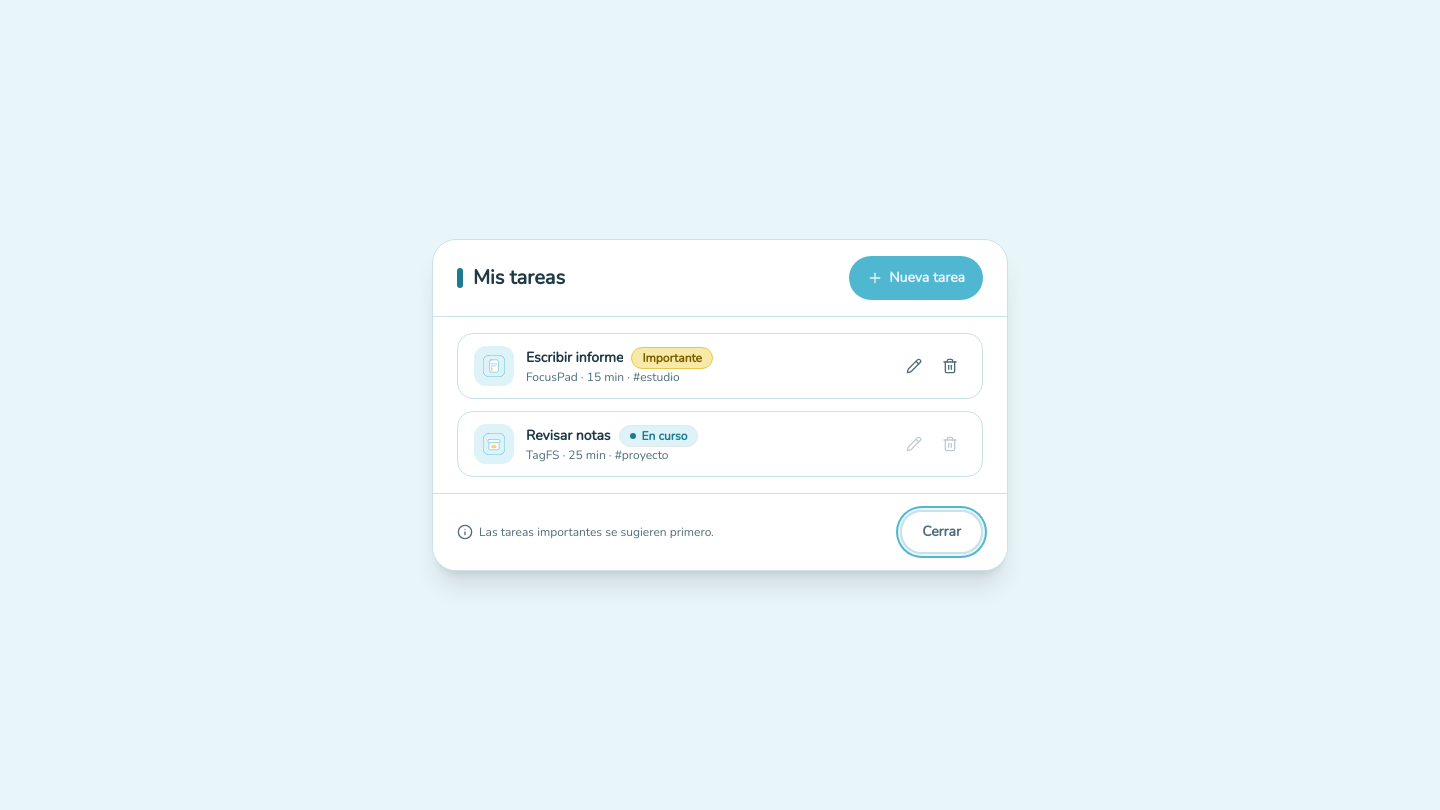
Test: DialogoMisTareas › elimina una tarea tras confirmar en el diálogo
Click the button named "Eliminar Escribir informe" at point(950, 366), box left=934, top=350, right=966, bottom=382
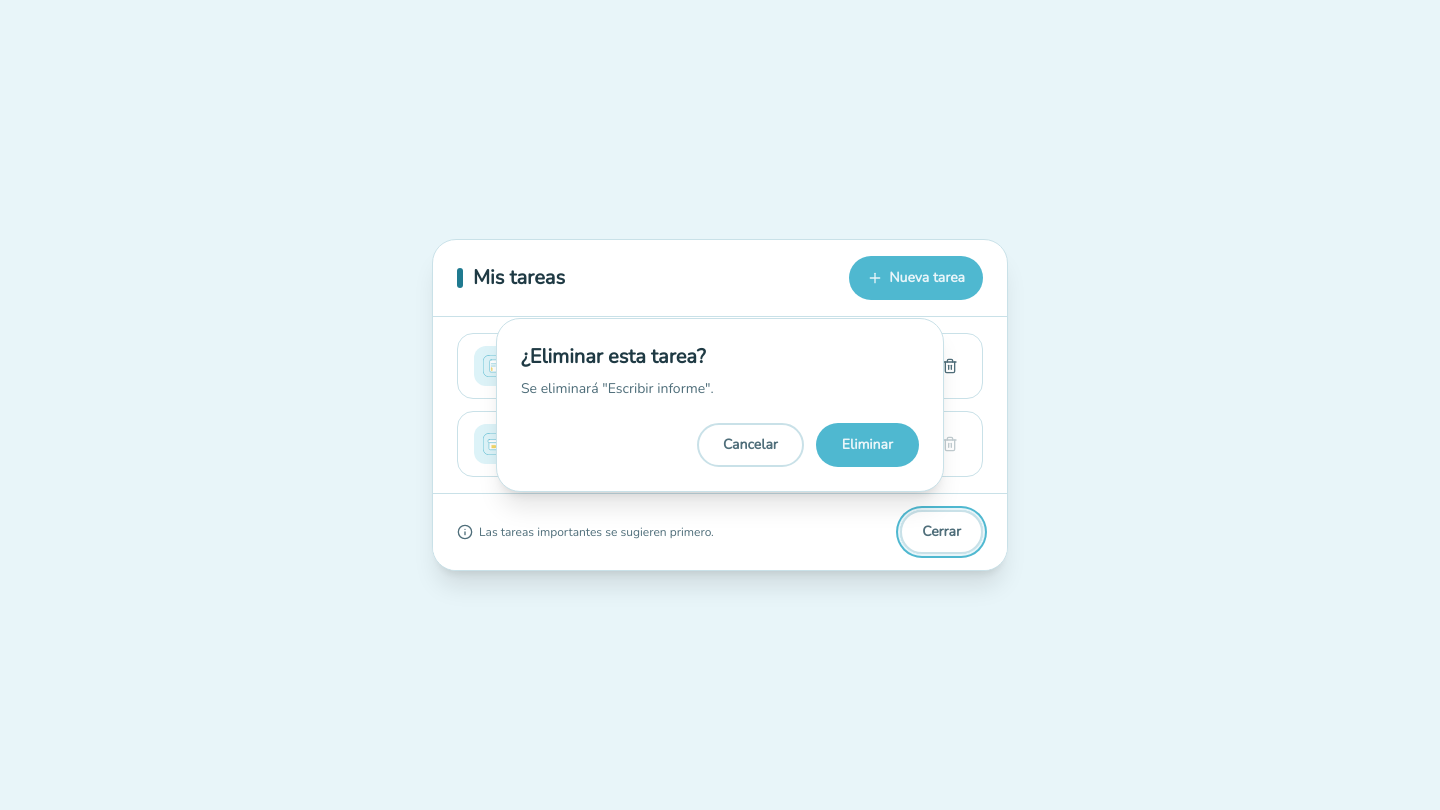
Expected: the heading "¿Eliminar esta tarea?" is shown, left=521, top=343, right=706, bottom=370
Click the button "Eliminar" at point(867, 445), box left=816, top=423, right=919, bottom=467
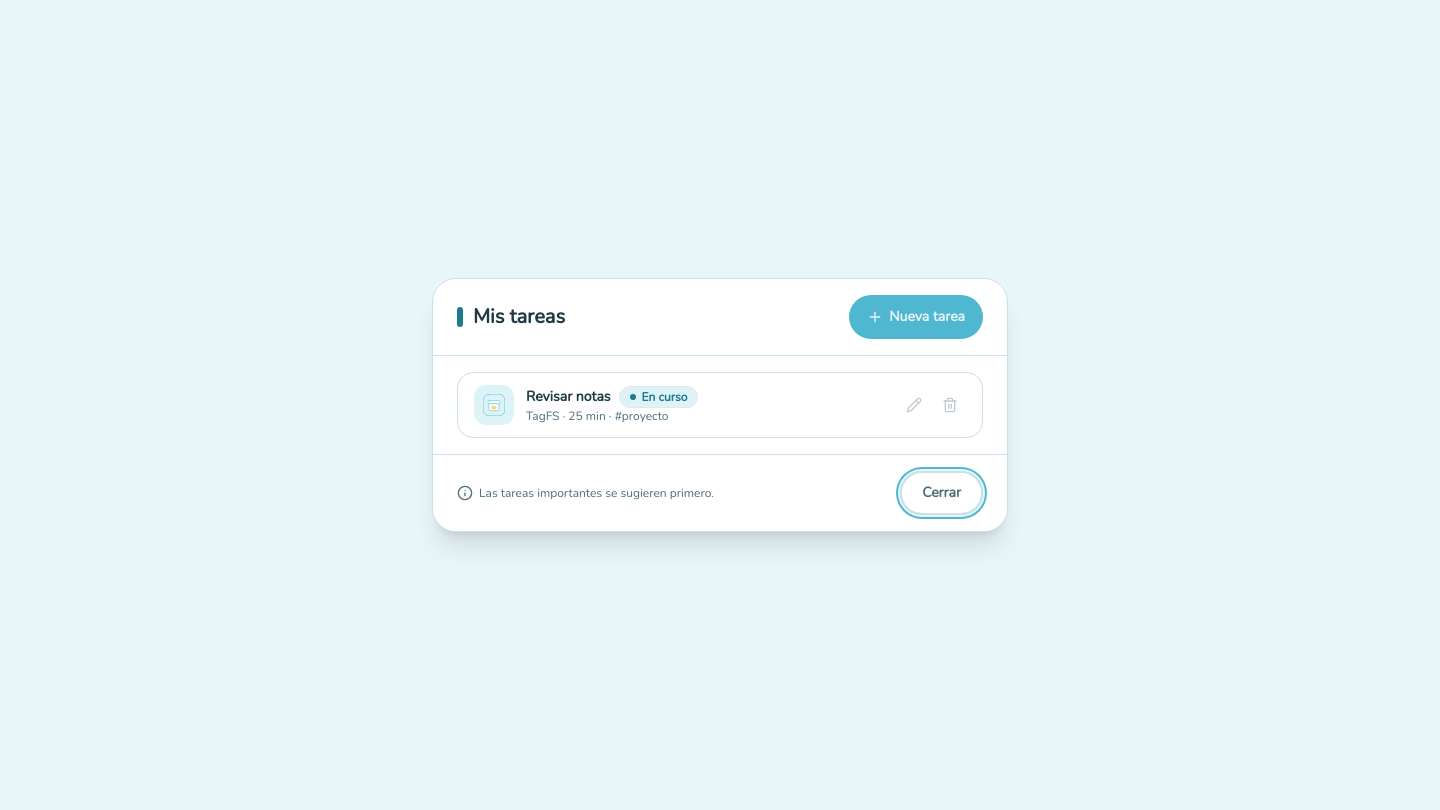
Expected: the button "Escribir informe" is gone
